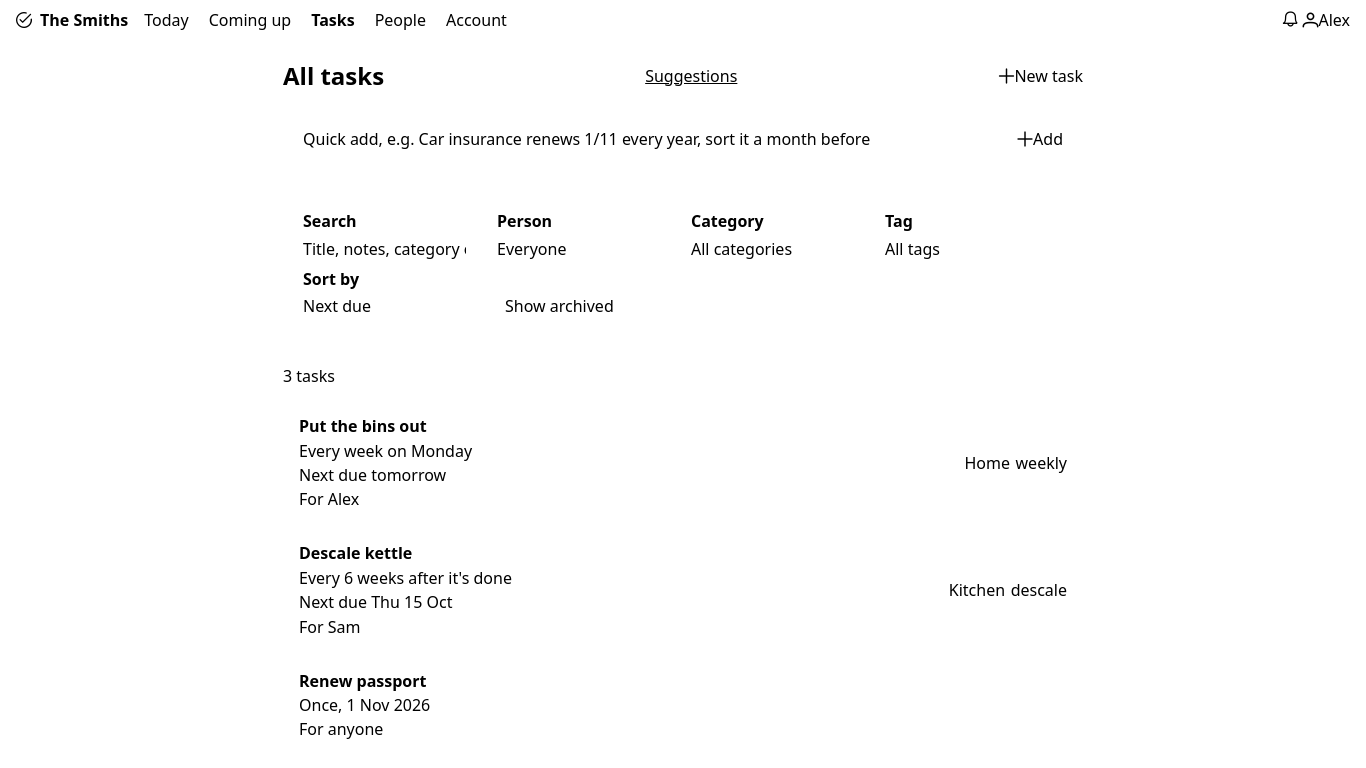
Scenario: All tasks › searches title, notes, category and tags
The width and height of the screenshot is (1366, 768).
Type "vinegar" into the search field with id "task-search".
click(392, 249); type("vinegar")  # box [303,238,481,260]
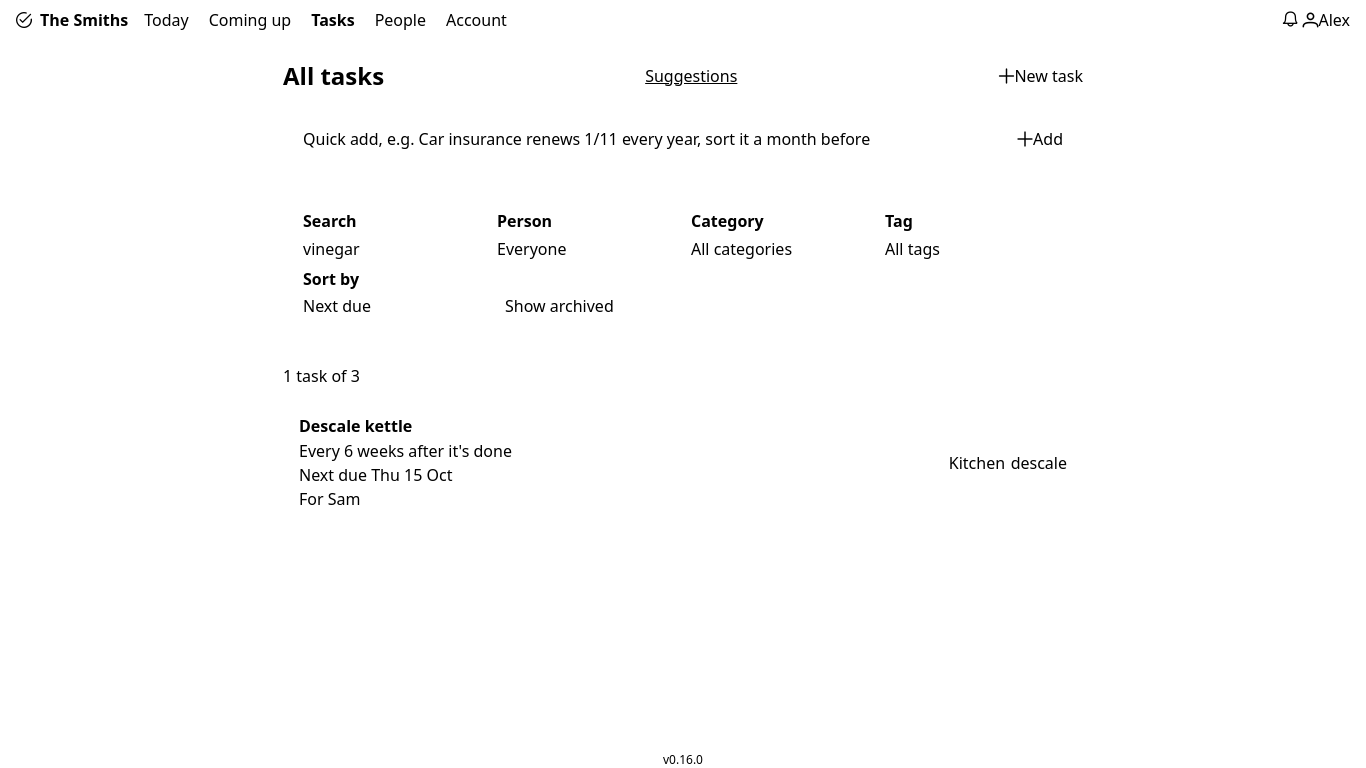
Replace the text in the search field with id "task-search" with "HOME" at {"x": 392, "y": 249}, box [303,238,481,260]
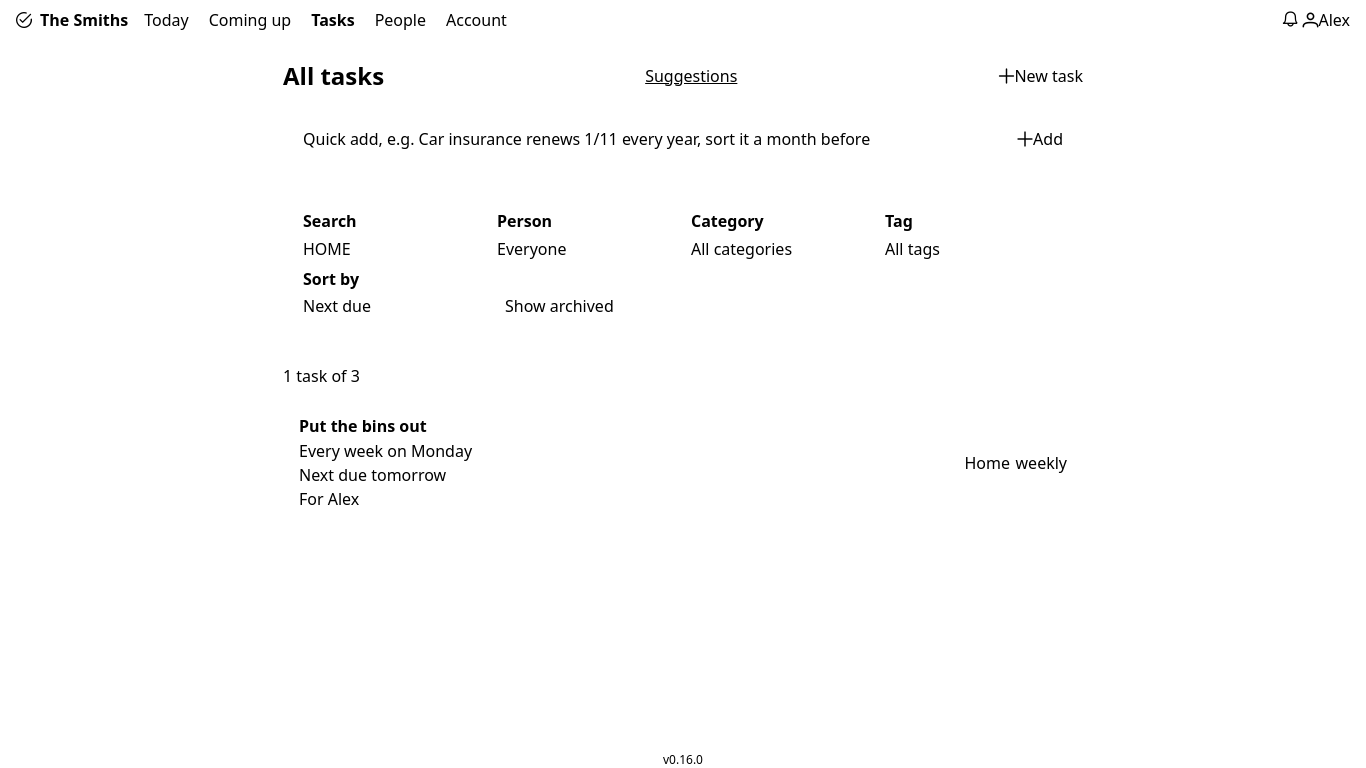
Replace the text in the search field with id "task-search" with "weekly" at {"x": 392, "y": 249}, box [303,238,481,260]
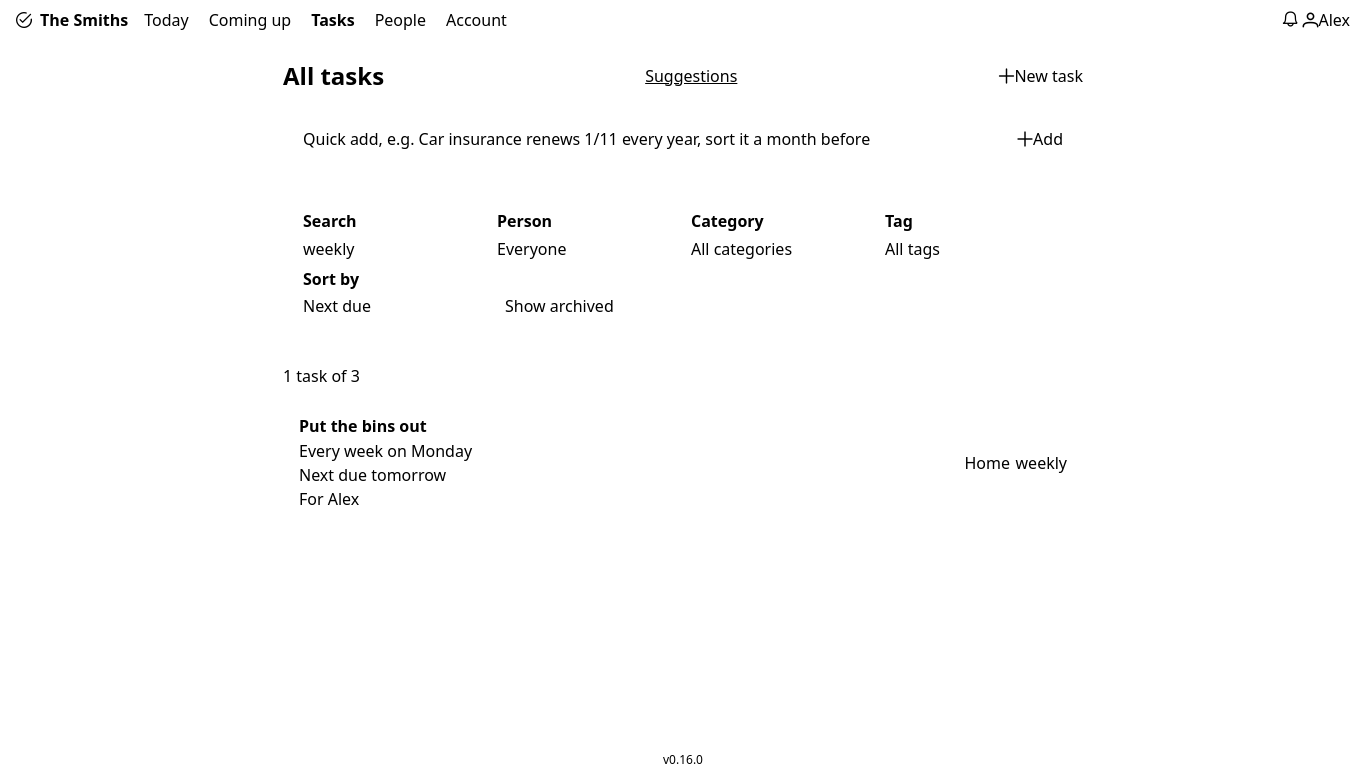
Replace the text in the search field with id "task-search" with "passport" at {"x": 392, "y": 249}, box [303,238,481,260]
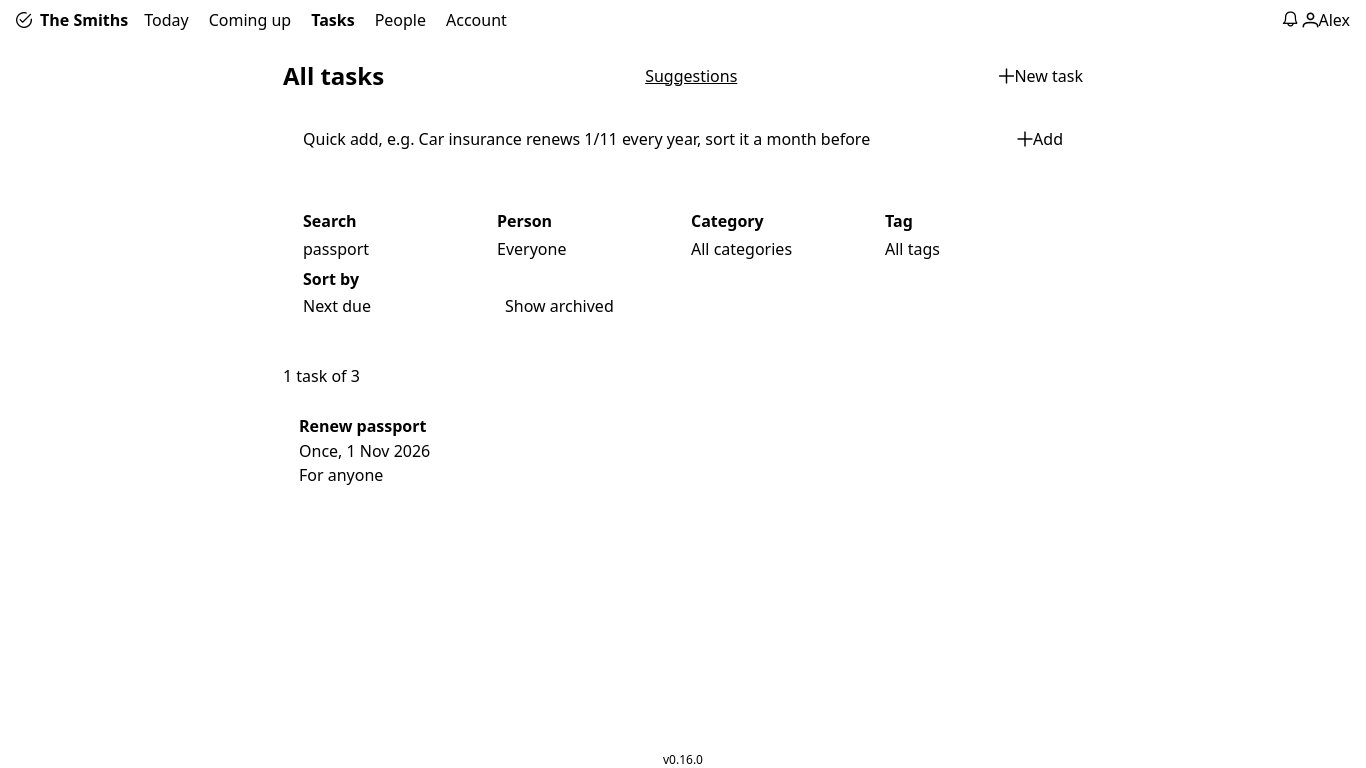
Replace the text in the search field with id "task-search" with "zzz" at {"x": 392, "y": 249}, box [303,238,481,260]
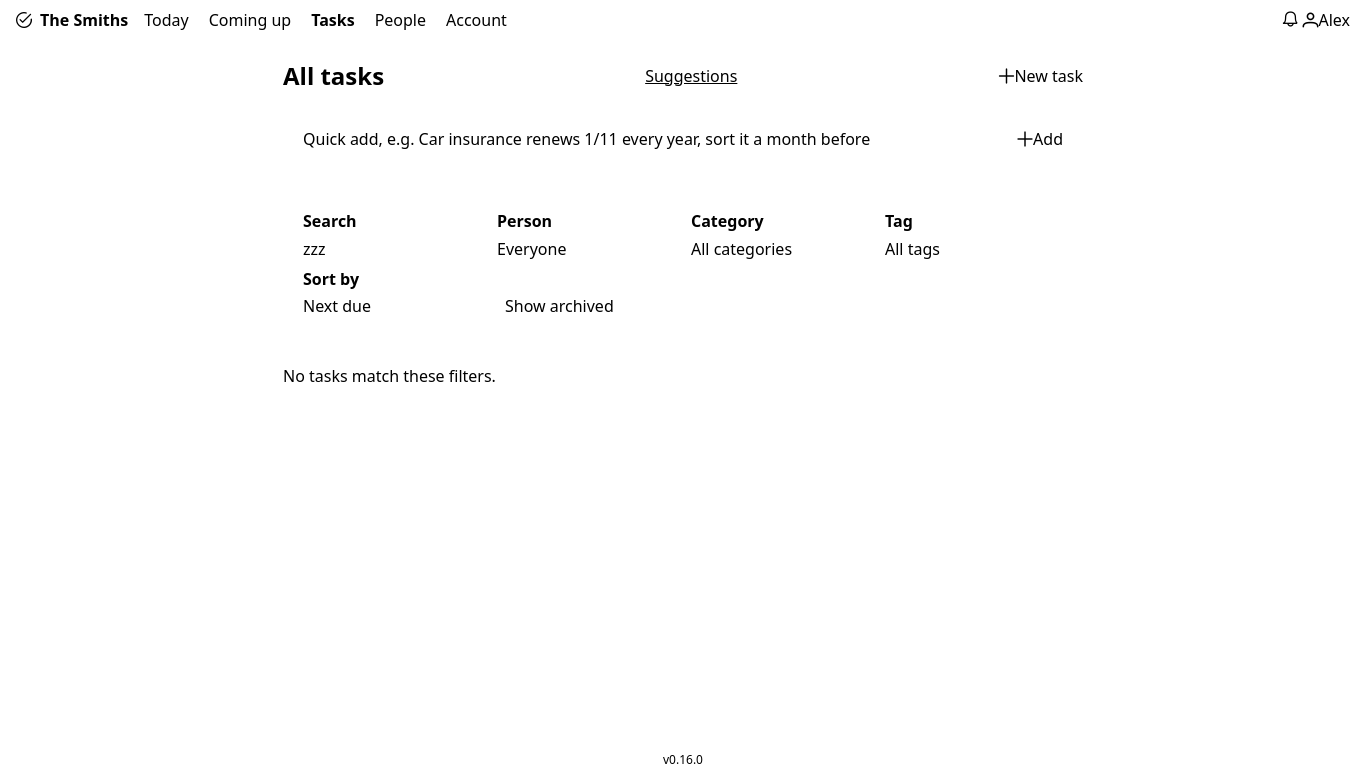
Result: the text "No tasks match these filters" is shown at [283,365,496,387]
